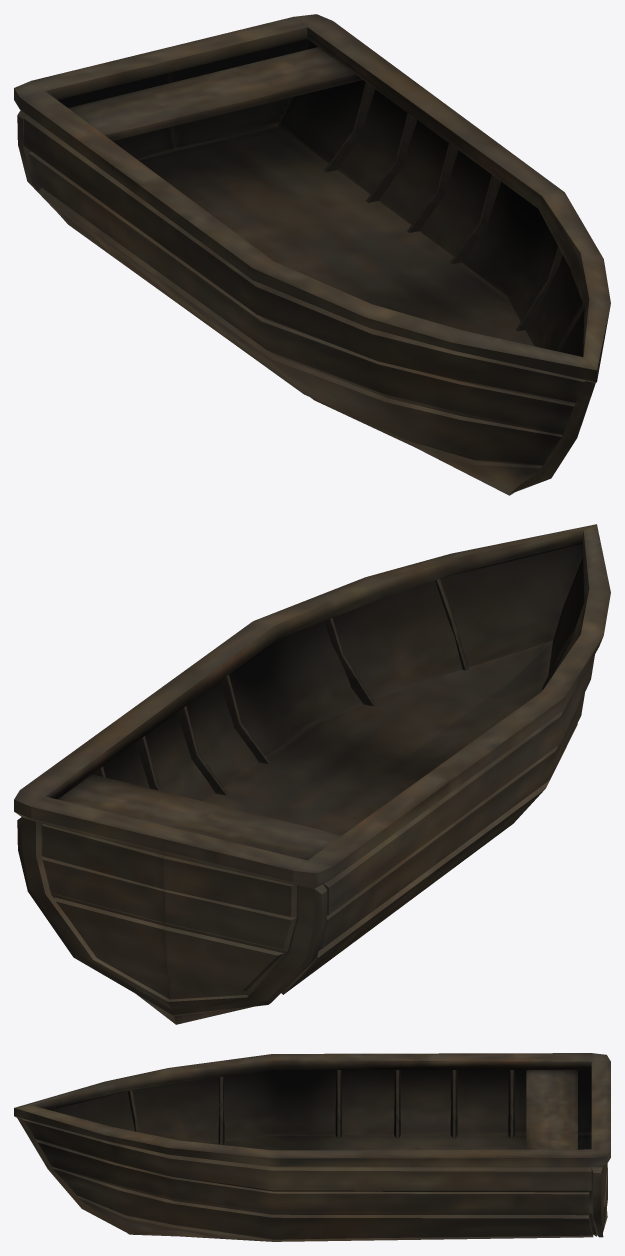
The model's file is Boat.fbx.
The picture shows the model from 3 angles, top to bottom: view 1: azimuth 30°, elevation 25°; view 2: azimuth 150°, elevation 25°; view 3: azimuth 270°, elevation 25°; orthographic projection. The views are drawn at different scales.
Parts seen in each view (by area): view 1: BOat; view 2: BOat; view 3: BOat.
Boxes of the visible parts, x1,y1,x2,y2 form: BOat: (14, 14, 610, 495); BOat: (14, 524, 610, 1024); BOat: (14, 1053, 610, 1241).
Size of the model in its own units: 241 by 142 by 580.
1 material, 1 textured.
